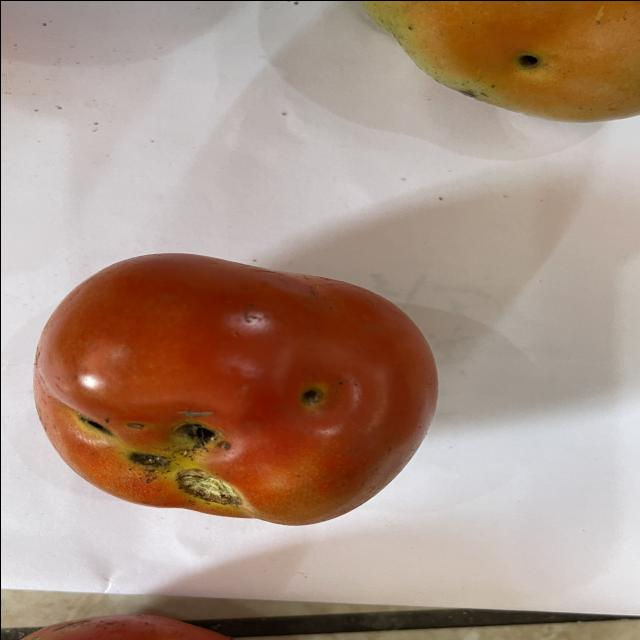fruitworm_bore: (126, 416, 235, 478), (68, 412, 116, 441), (292, 379, 324, 409)
